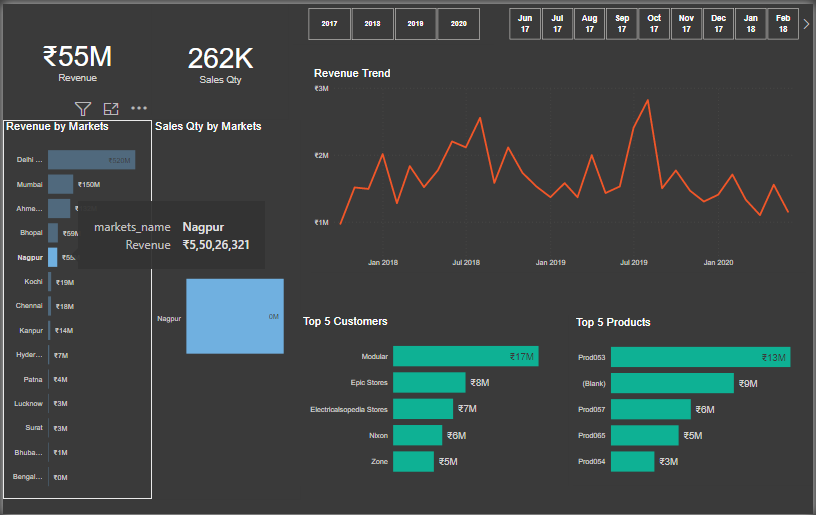

Layout of this report page (visuals, bound fields, positions):
{"tool":"powerbi","page":{"name":"Key Insights","canvas":[1350,850],"ordinal":0},"visuals":[{"type":"card","fields":{"Values":["BaseMeasures (2).Revenue"]},"box":[0,0,247.9,184.6],"z":0},{"type":"card","fields":{"Values":["BaseMeasures (2).Sales Qty"]},"box":[247.9,0,227.9,193.1],"z":1000},{"type":"barChart","title":"Revenue by Markets","fields":{"Y":["BaseMeasures (2).Revenue"],"Category":["sales markets.markets_name"]},"box":[0,193.1,247.9,631.9],"z":2000},{"type":"barChart","title":"Sales Qty by Markets","fields":{"Y":["BaseMeasures (2).Sales Qty"],"Category":["sales markets.markets_name"]},"box":[247.9,193.1,247.9,631.9],"z":3000},{"type":"slicer","fields":{"Values":["sales date.year"]},"box":[483.3,0,335,66.7],"z":4000},{"type":"slicer","fields":{"Values":["sales date.cy_date"]},"box":[818.6,0,531.7,66.5],"z":5000},{"type":"barChart","title":"Top 5 Customers","fields":{"Y":["BaseMeasures (2).Revenue"],"Category":["sales customers.custmer_name"]},"box":[495,518.3,446.7,285],"z":6000},{"type":"barChart","title":"Top 5 Products","fields":{"Y":["BaseMeasures (2).Revenue"],"Category":["sales products.product_code"]},"box":[950.7,519.2,399.5,282.8],"z":7000},{"type":"lineChart","title":"Revenue Trend","fields":{"Y":["BaseMeasures (2).Revenue"],"Category":["sales date.cy_date"]},"box":[513.3,105,825,341.7],"z":8000}]}

Visuals, with their boxes in screenshot pixels (x1, y1, x2, y2), scaled from the page's 1350x850 canvas onto the 816x515 screenshot:
card - BaseMeasures (2).Revenue: bbox=[0, 0, 150, 112]
card - BaseMeasures (2).Sales Qty: bbox=[150, 0, 288, 117]
"Revenue by Markets" barChart: bbox=[0, 117, 150, 500]
"Sales Qty by Markets" barChart: bbox=[150, 117, 300, 500]
slicer - sales date.year: bbox=[292, 0, 495, 40]
slicer - sales date.cy_date: bbox=[495, 0, 815, 40]
"Top 5 Customers" barChart: bbox=[299, 314, 569, 487]
"Top 5 Products" barChart: bbox=[575, 315, 815, 486]
"Revenue Trend" lineChart: bbox=[310, 64, 809, 271]
